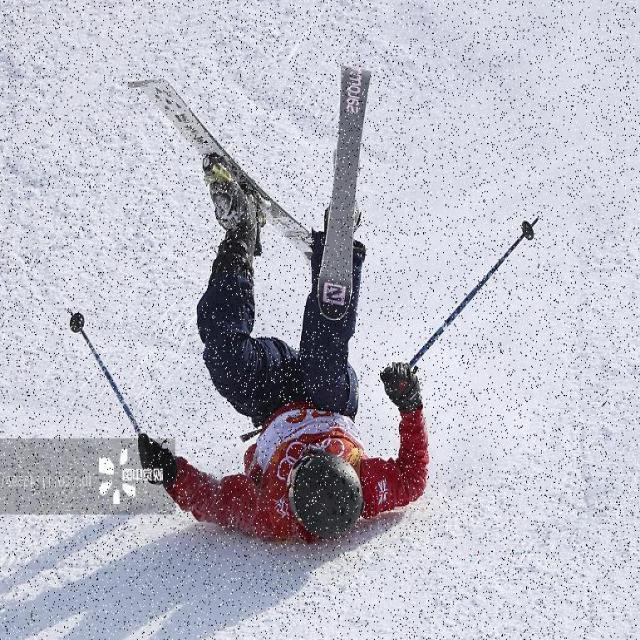fall: (174, 214, 432, 544)
